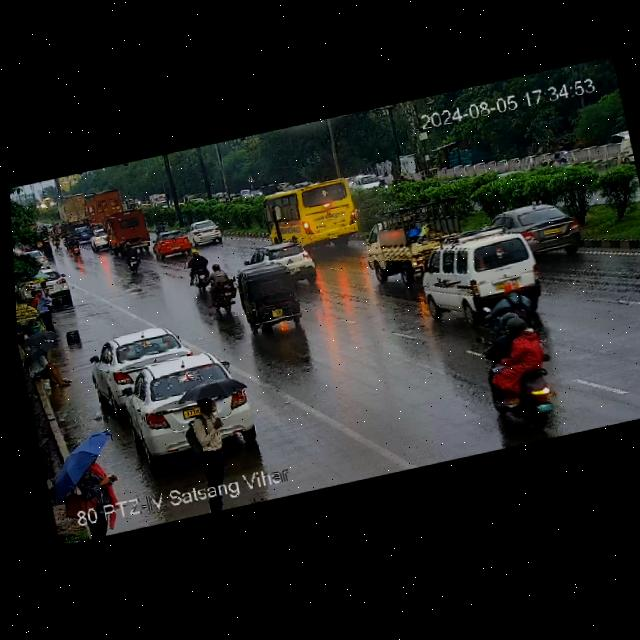bus: (257, 171, 364, 254)
car: (103, 346, 264, 473), (414, 224, 550, 321), (478, 194, 589, 266), (90, 322, 196, 397), (237, 262, 307, 333), (240, 237, 311, 279), (146, 226, 195, 263), (38, 264, 75, 307), (186, 216, 228, 248), (88, 228, 115, 253)
motorcycle: (481, 314, 564, 429), (201, 263, 241, 313), (184, 246, 221, 291), (122, 240, 148, 273), (63, 232, 84, 257), (47, 226, 63, 252)
person: (68, 449, 126, 541), (186, 392, 235, 481), (26, 344, 71, 392), (31, 287, 59, 333)
truck: (357, 195, 469, 292), (103, 205, 154, 262), (58, 186, 124, 228)
